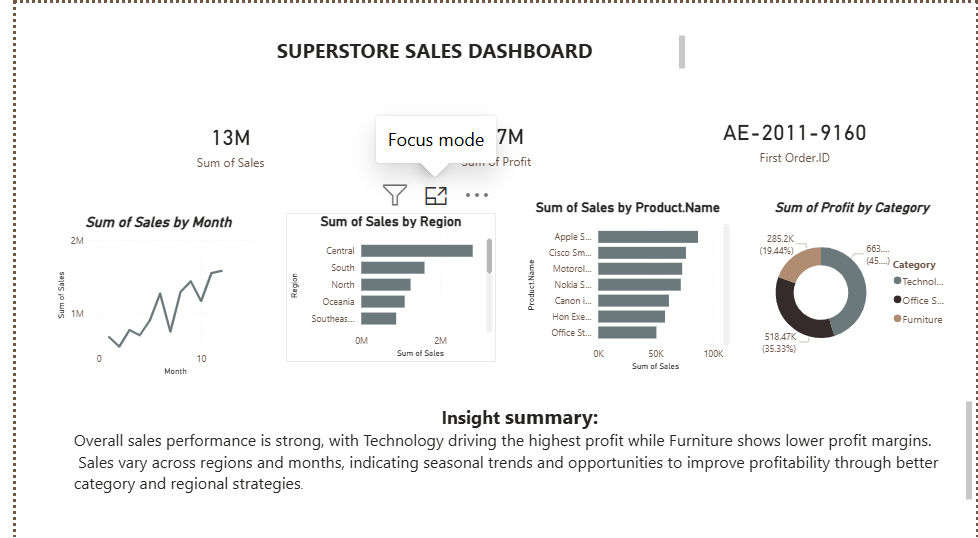

The page's visual inventory and layout, read from the dashboard file:
{"tool":"powerbi","page":{"name":"Page 1","canvas":[1280,720],"ordinal":0},"visuals":[{"type":"card","fields":{"Values":["Sum(cleaned_superstore.Sales)"]},"box":[145.5,96.4,279.7,183.3],"z":0},{"type":"card","fields":{"Values":["Sum(cleaned_superstore.Profit)"]},"box":[500,87.5,280,197.5],"z":1000},{"type":"card","fields":{"Values":["Min(cleaned_superstore.Order.ID)"]},"box":[897.5,82.5,280,197.5],"z":2000},{"type":"lineChart","fields":{"Category":["cleaned_superstore.Month"],"Y":["Sum(cleaned_superstore.Sales)"]},"box":[49.1,279.7,279.7,221.1],"z":3000},{"type":"clusteredBarChart","fields":{"Category":["cleaned_superstore.Region"],"Y":["Sum(cleaned_superstore.Sales)"]},"box":[360,280,280,197.5],"z":3001},{"type":"barChart","fields":{"Category":["cleaned_superstore.Product.Name"],"Y":["Sum(cleaned_superstore.Sales)"]},"box":[675,262.5,280,232.5],"z":3002},{"type":"textbox","box":[226.8,37.8,670.9,58.6],"z":3005},{"type":"donutChart","fields":{"Category":["cleaned_superstore.Category"],"Y":["Sum(cleaned_superstore.Profit)"]},"box":[972.5,262.5,285,227.5],"z":3006},{"type":"textbox","box":[72.5,525,1207.5,145],"z":3007}]}

Visuals, with their boxes on the page's 1280x720 design canvas (x1, y1, x2, y2). These are canvas units, not pixel positions in the 978x538 screenshot, which may show the page scaled, cropped or inside an application window:
card - Sum(cleaned_superstore.Sales): [146, 96, 425, 280]
card - Sum(cleaned_superstore.Profit): [500, 88, 780, 285]
card - Min(cleaned_superstore.Order.ID): [898, 82, 1178, 280]
lineChart - cleaned_superstore.Month x Sum(cleaned_superstore.Sales): [49, 280, 329, 501]
clusteredBarChart - cleaned_superstore.Region x Sum(cleaned_superstore.Sales): [360, 280, 640, 478]
barChart - cleaned_superstore.Product.Name x Sum(cleaned_superstore.Sales): [675, 262, 955, 495]
textbox: [227, 38, 898, 96]
donutChart - cleaned_superstore.Category x Sum(cleaned_superstore.Profit): [972, 262, 1258, 490]
textbox: [72, 525, 1280, 670]
